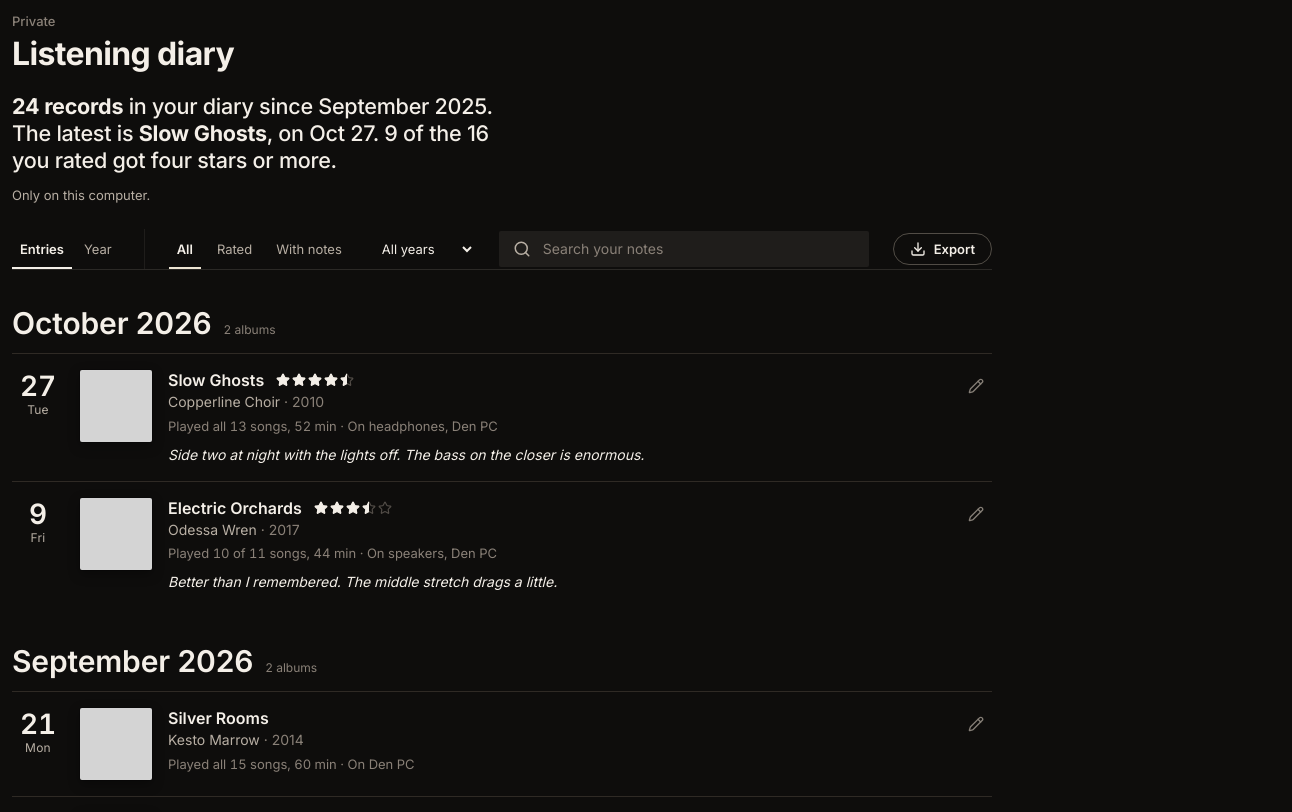
the diary page › the year view lays out a year's covers by month with counts
Expected: the heading "Listening diary" is shown, left=12, top=34, right=234, bottom=73
Click the tab "Year". click: (98, 249)
box: left=76, top=229, right=120, bottom=269
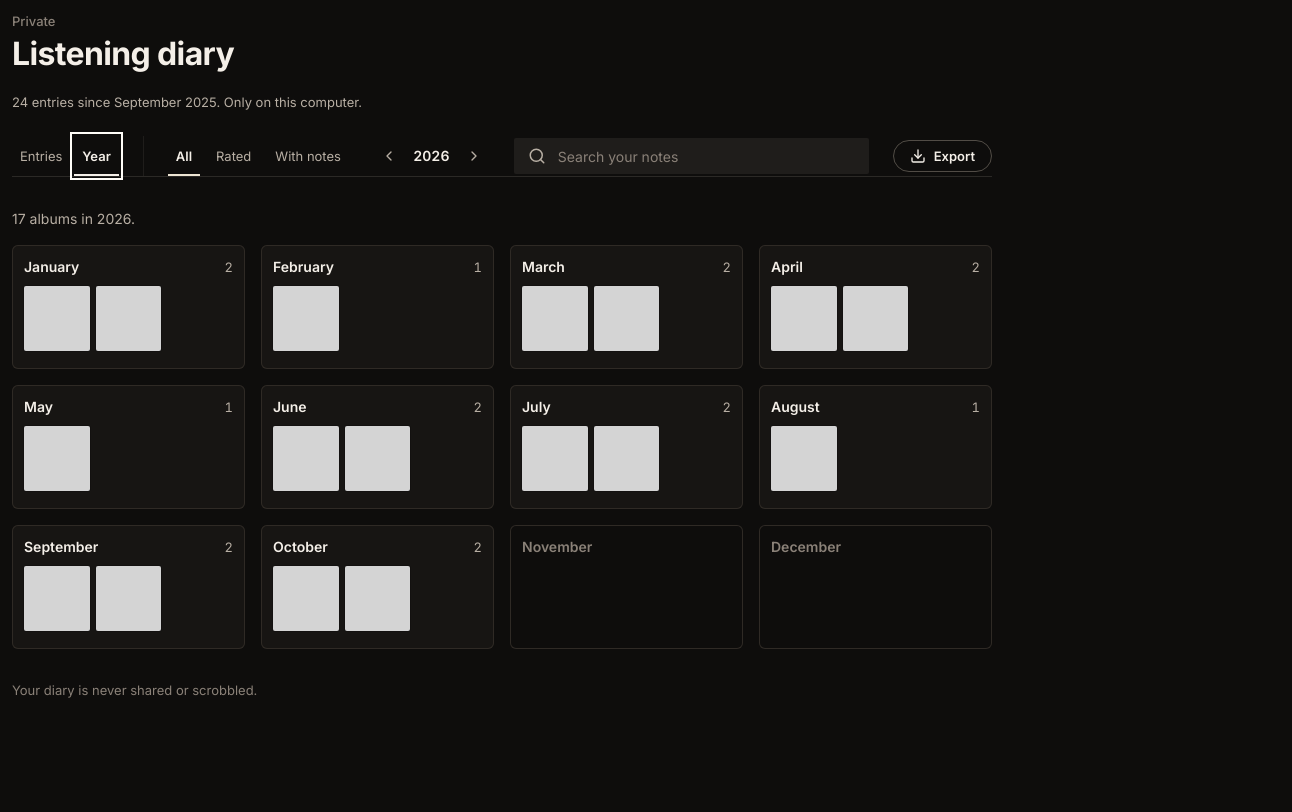
// The year before has the older entries.
Click the button named "Previous year". click: (389, 156)
box: left=373, top=140, right=405, bottom=172
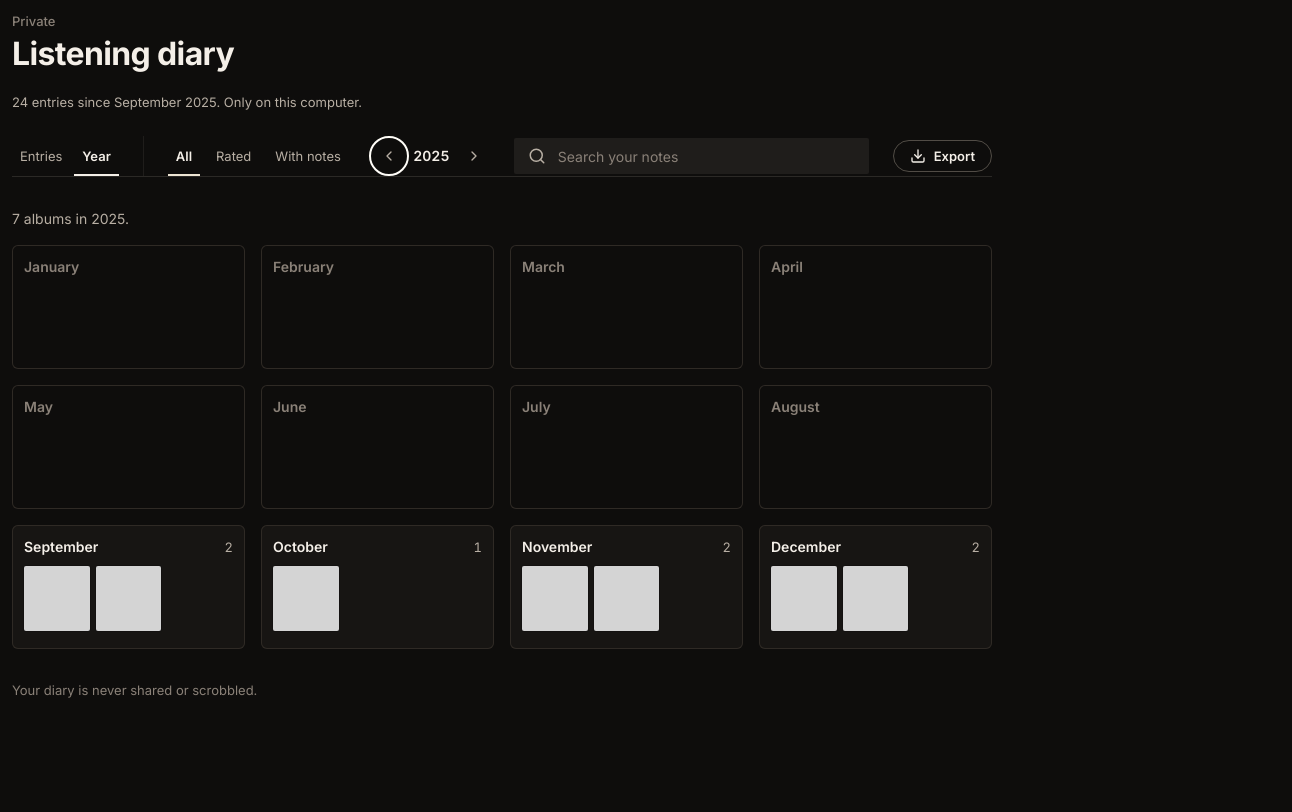
// A month opens the entries at that month.
Click the button named "Next year". click: (474, 156)
box: left=458, top=140, right=490, bottom=172
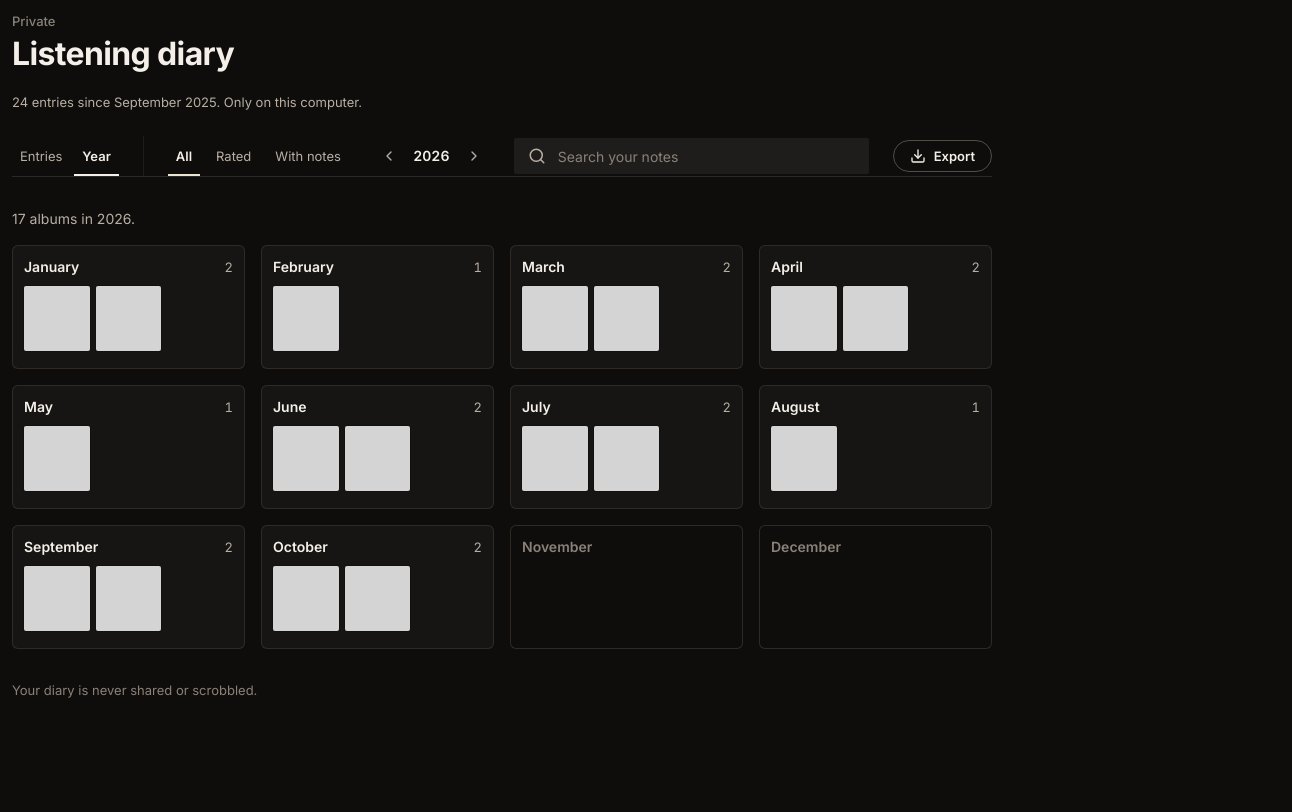
Click the button "October 2". click: (378, 548)
box: left=273, top=537, right=482, bottom=558
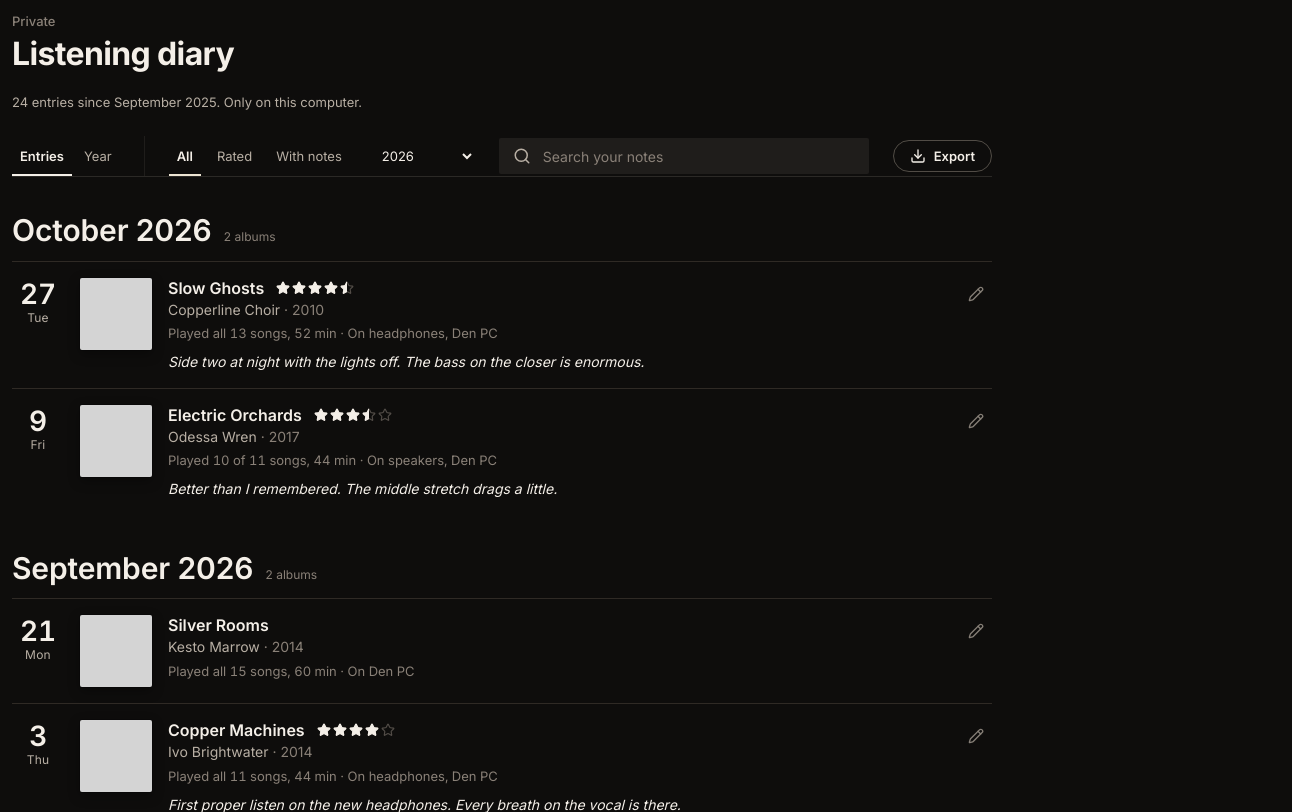
Expected: the element "October 2026" is shown, left=12, top=209, right=992, bottom=515
Expected: the dropdown named "Year" shows "2026", left=374, top=140, right=475, bottom=172
